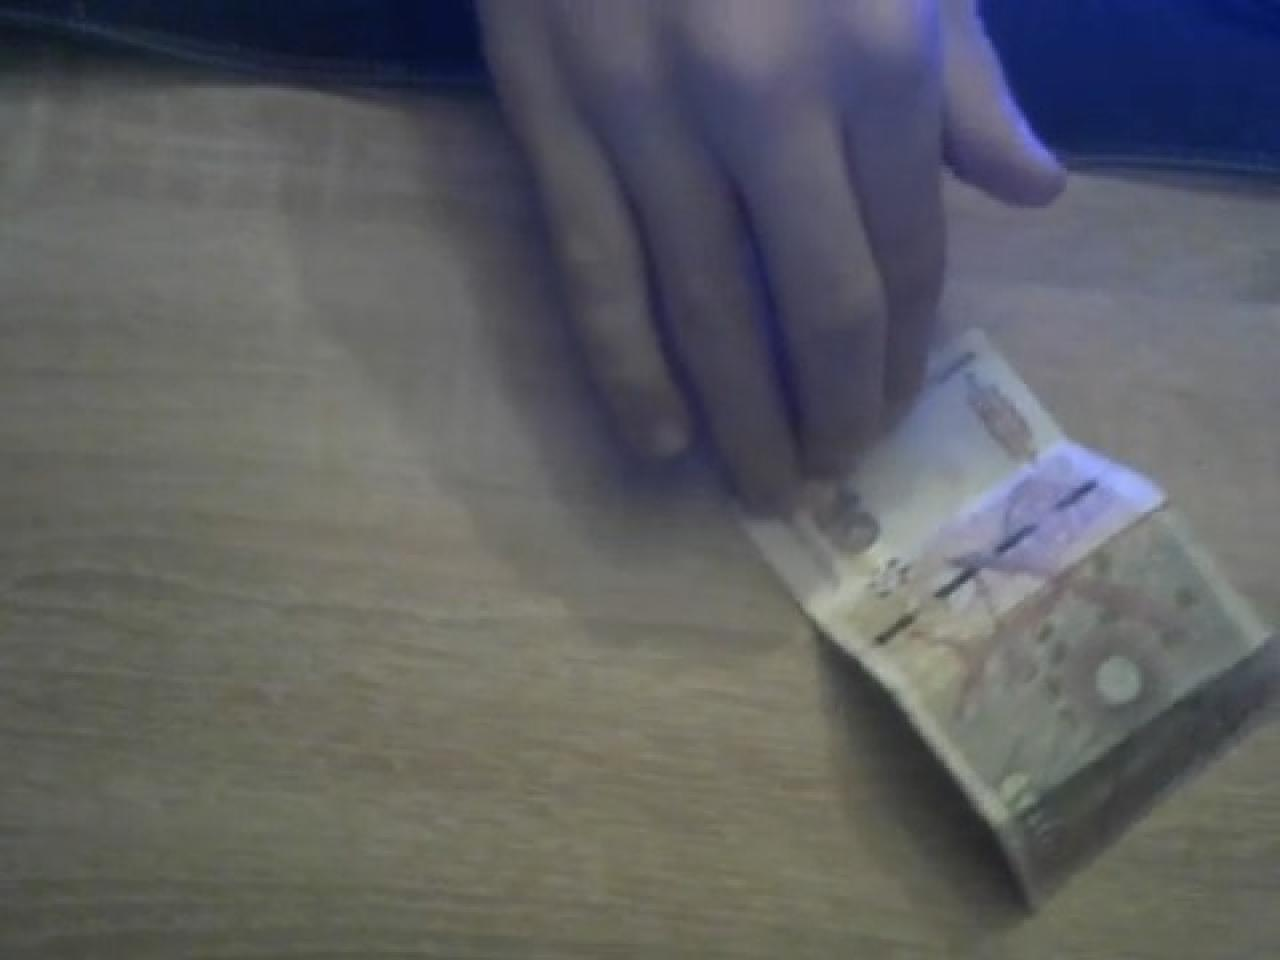10leva: (749, 331, 1280, 912), (793, 473, 944, 585)
